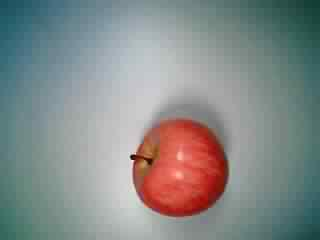apple: (127, 116, 231, 220)
